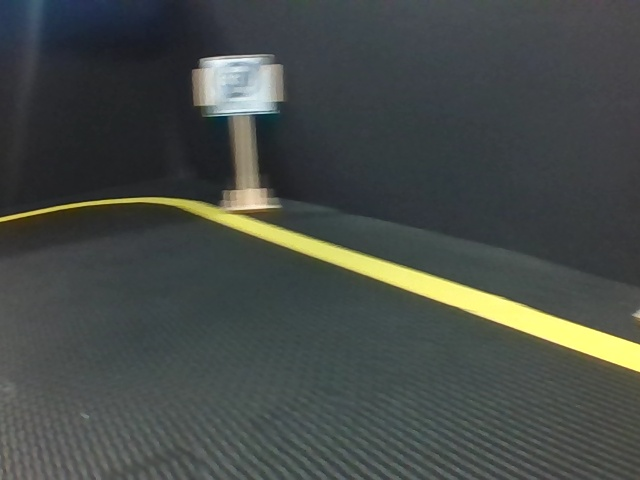no30: (206, 56, 272, 115)
